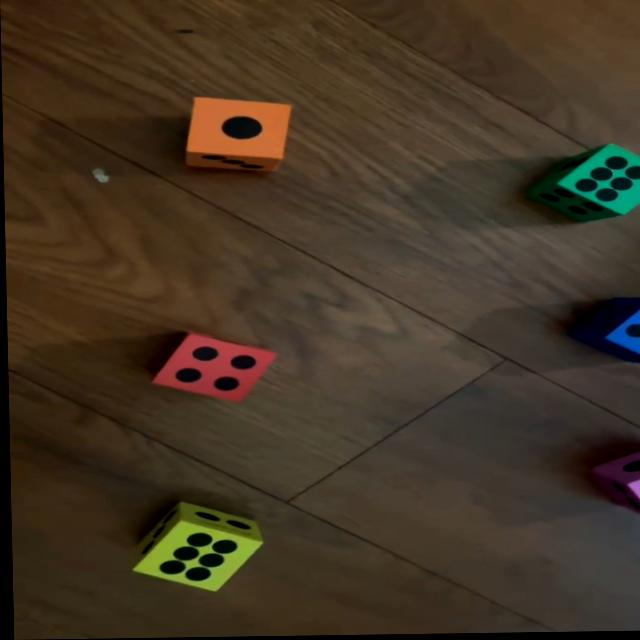cube: (524, 146, 640, 227), (149, 331, 275, 405), (571, 300, 640, 366)
